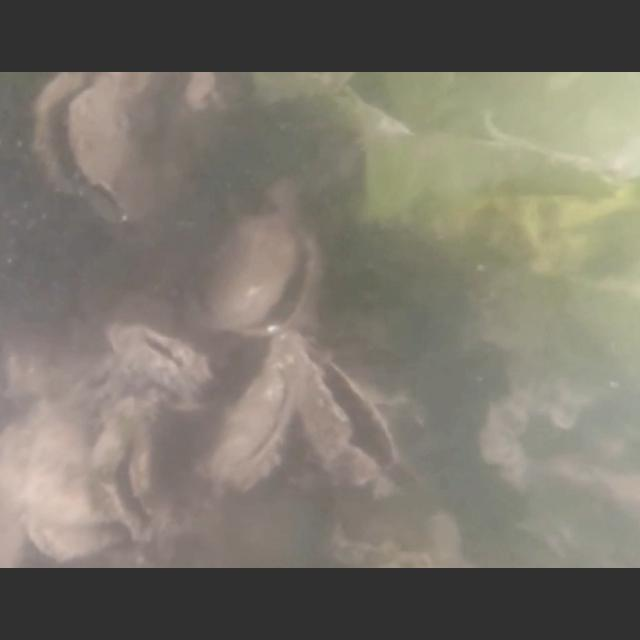Oyster-Closed: (19, 404, 127, 562)
Oyster-Open: (273, 331, 401, 487), (31, 72, 150, 226), (203, 212, 325, 340), (208, 360, 298, 494), (95, 404, 165, 544), (105, 320, 215, 398)
